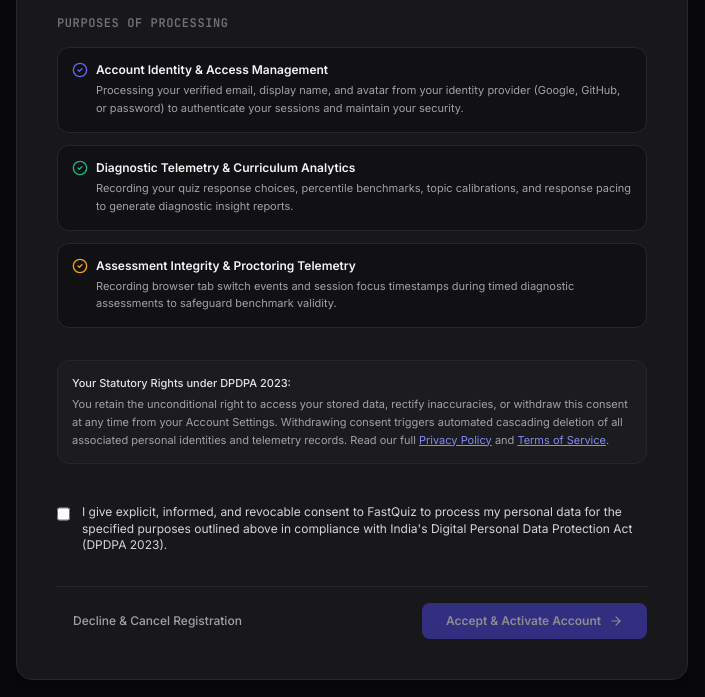
Scenario: ConsentPage Component › enables accept button when consent checkbox is checked
This screenshot has width=705, height=697.
(page scrolled)
Check: the button "Accept & Activate Account" is disabled, box [422,603,647,639]
Click the checkbox at (64,514), box [57,506,70,522]
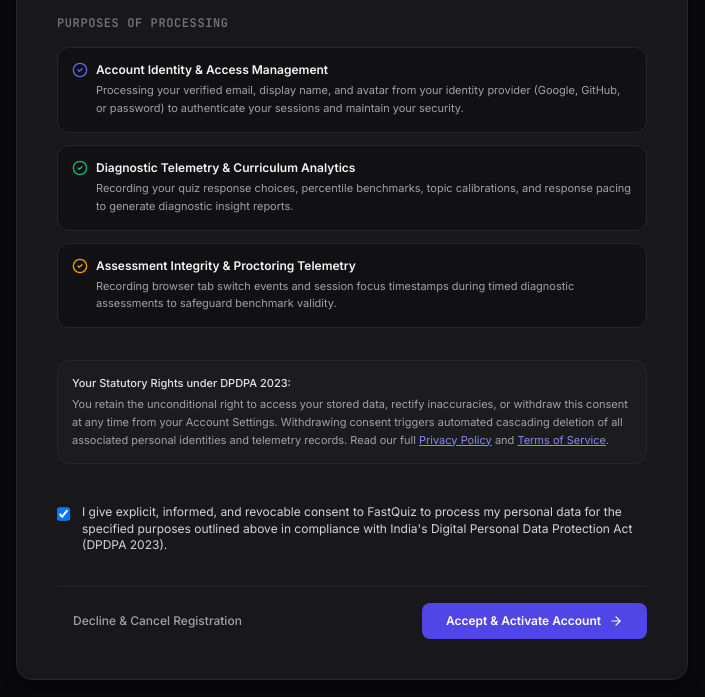
Check: the button "Accept & Activate Account" is enabled, box [422,603,647,639]
